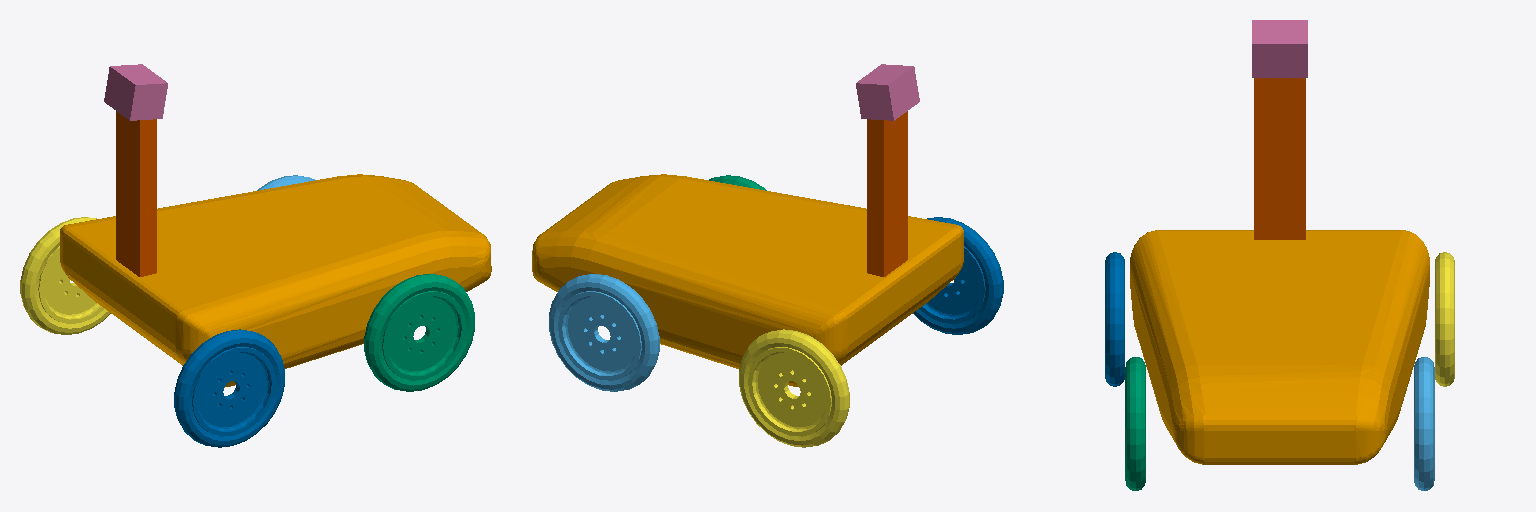
The robot description file, URDF, robot "DriveBot":
<?xml version="1.0"?>
<robot name="DriveBot">

  <link name="chassis">
    <visual>
      <geometry>
        <mesh filename="package://drivebot_description/urdf/Chassis.stl"/>
      </geometry>
      <origin rpy="1.5708 0 0" xyz="-0.3 0.25 0.1"/>
    </visual>
    <collision>
      <geometry>
        <mesh filename="package://drivebot_description/urdf/Chassis.stl"/>
      </geometry>
      <origin rpy="1.5708 0 0" xyz="-0.3 0.25 0.1"/>
    </collision>
    <inertial>
      <mass value="2"/>
      <inertia ixx="0.07552" ixy="0.0" ixz="0.0" iyy="0.23177" iyz="0.0" izz="0.17708"/>
      <origin rpy="1.5708 0 0" xyz="0.2 0 0"/>
    </inertial>
  </link>

  <link name="front_left">
    <visual>
      <geometry>
        <mesh filename="package://drivebot_description/urdf/FrontTire.stl"/>
      </geometry>
      <origin rpy="1.5708 0 0" xyz="0 0.15 0"/>
    </visual>
    <collision>
      <geometry>
        <cylinder length="0.05" radius="0.17"/>
      </geometry>
      <origin rpy="1.5708 0 0" xyz="0 0.15 0"/>
    </collision>
    <inertial>
      <mass value="0.25"/>
      <inertia ixx="0.000602" ixy="0.0" ixz="0.0" iyy="0.001858" iyz="0.0" izz="0.001858"/>
      <origin rpy="0 0 0" xyz="0.0 0.15 0.0"/>
    </inertial>
  </link>

  <joint name="front_left_to_chassis" type="continuous">
    <axis rpy="0 0 0" xyz="0 1 0"/>
    <parent link="chassis"/>
    <child link="front_left"/>
    <origin xyz="0.4 0.2 -0.1"/>
    <limit effort="1000" velocity="1000"/>
    <dynamics damping="0.1"/>
    <sensor name="front_left" type="force_torque">
      <update_rate>30</update_rate>
      <force_torque>
        <frame>sensor</frame>
        <measure_direction>child_to_parent</measure_direction>
      </force_torque>
    </sensor>
  </joint>

  <link name="front_right">
    <visual>
      <geometry>
        <mesh filename="package://drivebot_description/urdf/FrontTire.stl"/>
      </geometry>
      <origin rpy="1.5708 0 0" xyz="0 -0.15 0"/>
    </visual>
    <collision>
      <geometry>
        <cylinder length="0.05" radius="0.17"/>
      </geometry>
      <origin rpy="1.5708 0 0" xyz="0 -0.15 0"/>
    </collision>
    <inertial>
      <mass value="0.25"/>
      <inertia ixx="0.000602" ixy="0.0" ixz="0.0" iyy="0.001858" iyz="0.0" izz="0.001858"/>
      <origin rpy="0 0 0" xyz="0 -0.15 0"/>
    </inertial>
  </link>

  <joint name="front_right_to_chassis" type="continuous">
    <axis rpy="0 0 0" xyz="0 1 0"/>
    <parent link="chassis"/>
    <child link="front_right"/>
    <origin xyz="0.4 -0.2 -0.1"/>
    <limit effort="1000" velocity="1000"/>
    <dynamics damping="0.1"/>
  </joint>

  <link name="rear_left">
    <visual>
      <geometry>
        <mesh filename="package://drivebot_description/urdf/FrontTire.stl"/>
      </geometry>
      <origin rpy="1.5708 0 0" xyz="0 0.05 0"/>
    </visual>
    <collision>
      <geometry>
        <cylinder length="0.05" radius="0.17"/>
      </geometry>
      <origin rpy="1.5708 0 0" xyz="0 0.05 0"/>
    </collision>
    <inertial>
      <mass value="0.25"/>
      <inertia ixx="0.000602" ixy="0.0" ixz="0.0" iyy="0.001858" iyz="0.0" izz="0.001858"/>
      <origin rpy="0 0 0" xyz="0 0.05 0"/>
    </inertial>
  </link>

  <joint name="rear_left_to_chassis" type="continuous">
    <axis rpy="0 0 0" xyz="0 1 0"/>
    <parent link="chassis"/>
    <child link="rear_left"/>
    <origin xyz="-0.2 0.35 -0.1"/>
    <limit effort="1000" velocity="1000"/>
    <dynamics damping="0.1"/>
  </joint>

  <link name="rear_right">
    <visual>
      <geometry>
        <mesh filename="package://drivebot_description/urdf/FrontTire.stl"/>
      </geometry>
      <origin rpy="1.5708 0 0" xyz="0 -0.05 0"/>
    </visual>
    <collision>
      <geometry>
        <cylinder length="0.05" radius="0.17"/>
      </geometry>
      <origin rpy="1.5708 0 0" xyz="0 -0.05 0"/>
    </collision>
    <inertial>
      <mass value="0.25"/>
      <inertia ixx="0.000602" ixy="0.0" ixz="0.0" iyy="0.001858" iyz="0.0" izz="0.001858"/>
      <origin rpy="0 0 0" xyz="0 -0.05 0"/>
    </inertial>
  </link>

  <joint name="rear_right_to_chassis" type="continuous">
    <axis rpy="0 0 0" xyz="0 1 0"/>
    <parent link="chassis"/>
    <child link="rear_right"/>
    <origin xyz="-0.2 -0.35 -0.1"/>
    <limit effort="1000" velocity="1000"/>
    <dynamics damping="0.1"/>
  </joint>

  <link name="boom">
    <visual>
      <geometry>
        <box size="0.05 0.125 0.5"/>
      </geometry>
      <origin xyz="0 0 0.25"/>
    </visual>
    <collision>
      <geometry>
        <box size="0.05 0.125 0.5"/>
      </geometry>
      <origin xyz="0 0 0.25"/>
    </collision>
    <inertial>
      <mass value="0.5"/>
      <inertia ixx="0.011068" ixy="0.0" ixz="0.0" iyy="0.01052" iyz="0.0" izz="0.000755"/>
      <origin xyz="0 0 0.25"/>
    </inertial>
  </link>

  <joint name="boom_to_chassis" type="fixed">
    <parent link="chassis"/>
    <child link="boom"/>
    <origin xyz="-0.25 0 0.1"/>
  </joint>

  <link name="camera">
    <visual>
      <geometry>
        <box size="0.1 0.135 0.1"/>
      </geometry>
      <origin rpy="0 0.174533 0" xyz="0 0 0"/>
    </visual>
    <collision>
      <geometry>
        <box size="0.1 0.135 0.1"/>
      </geometry>
      <origin rpy="0 0.174533 0" xyz="0 0 0"/>
    </collision>
    <inertial>
      <mass value="0.1"/>
      <inertia ixx="0.000235" ixy="0.0" ixz="0.0" iyy="0.0001666" iyz="0.0" izz="0.000235"/>
      <origin rpy="0 0.174533 0" xyz="0 0 0"/>
    </inertial>
  </link>

  <joint name="camera_to_boom" type="fixed">
    <parent link="boom"/>
    <child link="camera"/>
    <origin xyz="0 0 0.5"/>
  </joint>

  <gazebo reference="chassis">
    <material>Gazebo/White</material>
  </gazebo>

  <gazebo reference="boom">
    <material>Gazebo/White</material>
  </gazebo>

  <gazebo reference="front_left">
    <mu1>0.80</mu1>
    <mu2>0.95</mu2>
    <kp>10000000.0</kp>
    <kd>0.0</kd>
    <material>Gazebo/Green</material>
  </gazebo>

  <gazebo reference="front_right">
    <mu1>0.80</mu1>
    <mu2>0.95</mu2>
    <kp>10000000.0</kp>
    <kd>0.0</kd>
    <material>Gazebo/Green</material>
  </gazebo>

  <gazebo reference="rear_left">
    <mu1>0.80</mu1>
    <mu2>0.95</mu2>
    <kp>10000000.0</kp>
    <kd>0.0</kd>
    <material>Gazebo/Green</material>
  </gazebo>

  <gazebo reference="rear_right">
    <mu1>0.80</mu1>
    <mu2>0.95</mu2>
    <kp>10000000.0</kp>
    <kd>0.0</kd>
    <material>Gazebo/Green</material>
  </gazebo>

  <gazebo reference="camera">
    <material>Gazebo/Red</material>
    <sensor type="camera" name="camera1">
      <update_rate>30.0</update_rate>
      <camera name="camera">
        <horizontal_fov>1.3962634</horizontal_fov>
        <image>
          <width>800</width>
          <height>800</height>
          <format>R8G8B8</format>
        </image>
        <clip>
          <near>0.02</near>
          <far>300</far>
        </clip>
        <noise>
          <type>gaussian</type>
          <!-- Noise is sampled independently per pixel on each frame.
               That pixel's noise value is added to each of its color
               channels, which at that point lie in the range [0,1].-->
          <mean>0.0</mean>
          <stddev>0.007</stddev>
        </noise>
      </camera>
      <plugin name="camera_controller" filename="libgazebo_ros_camera.so">
        <alwaysOn>true</alwaysOn>
        <updateRate>0.0</updateRate>
        <cameraName>drivebot/camera1</cameraName>
        <imageTopicName>image_raw</imageTopicName>
        <cameraInfoTopicName>camera_info</cameraInfoTopicName>
        <frameName>camera_link</frameName>
        <hackBaseline>0.07</hackBaseline>
        <distortionK1>0.0</distortionK1>
        <distortionK2>0.0</distortionK2>
        <distortionK3>0.0</distortionK3>
        <distortionT1>0.0</distortionT1>
        <distortionT2>0.0</distortionT2>
      </plugin>
    </sensor>
  </gazebo>

  <gazebo>
    <plugin name="front_axle_differential_drive_controller" filename="libgazebo_ros_diff_drive.so">
      <legacyMode>false</legacyMode>
      <alwaysOn>true</alwaysOn>
      <updateRate>100</updateRate>
      <leftJoint>front_left_to_chassis</leftJoint>
      <rightJoint>front_right_to_chassis</rightJoint>
      <wheelSeparation>0.5</wheelSeparation>
      <wheelDiameter>0.25</wheelDiameter>
      <torque>15</torque>
      <commandTopic>cmd_vel</commandTopic>
      <odometryTopic>odom</odometryTopic>
      <odometryFrame>odom</odometryFrame>
      <robotBaseFrame>chassis</robotBaseFrame>
    </plugin>
  </gazebo>

  <gazebo>
    <plugin name="rear_axle_differential_drive_controller" filename="libgazebo_ros_diff_drive.so">
      <legacyMode>false</legacyMode>
      <alwaysOn>true</alwaysOn>
      <updateRate>100</updateRate>
      <leftJoint>rear_left_to_chassis</leftJoint>
      <rightJoint>rear_right_to_chassis</rightJoint>
      <wheelSeparation>0.75</wheelSeparation>
      <wheelDiameter>0.25</wheelDiameter>
      <torque>12.5</torque>
      <commandTopic>cmd_vel</commandTopic>
      <odometryTopic>odom</odometryTopic>
      <odometryFrame>odom</odometryFrame>
      <robotBaseFrame>chassis</robotBaseFrame>
    </plugin>
  </gazebo>

</robot>

--- Render facts (derived) ---
3 views of the same robot in one strip: view 1: azimuth 30°, elevation 25°; view 2: azimuth 150°, elevation 25°; view 3: azimuth 270°, elevation 25° (orthographic).
Model DriveBot with 7 links and 6 joints (4 continuous, 2 fixed), rooted at chassis, posed every joint at zero.
Links seen in each view (by area): view 1: chassis, front_right, rear_right, boom, rear_left, camera; view 2: chassis, front_left, rear_left, boom, rear_right, camera; view 3: chassis, boom, camera, front_right, front_left, rear_left, rear_right.
Boxes of the visible links, x1,y1,x2,y2 form: chassis: (60,174,491,387); front_right: (364,274,474,391); rear_right: (174,329,284,447); boom: (116,111,156,276); rear_left: (20,217,110,334); camera: (104,64,167,120); chassis: (532,174,963,387); front_left: (549,274,659,391); rear_left: (739,329,849,447); boom: (867,111,907,276); rear_right: (913,217,1003,334); camera: (856,64,919,120); chassis: (1130,230,1429,464); boom: (1254,78,1305,239); camera: (1252,20,1307,77); front_right: (1125,357,1145,490); front_left: (1414,357,1434,490); rear_left: (1435,252,1454,386); rear_right: (1105,252,1124,386).
Size in the robot's own frame: 1.06 by 0.85 by 0.9219 metres.
5 mesh visuals loaded from 2 distinct referenced files (2 binary STL).
